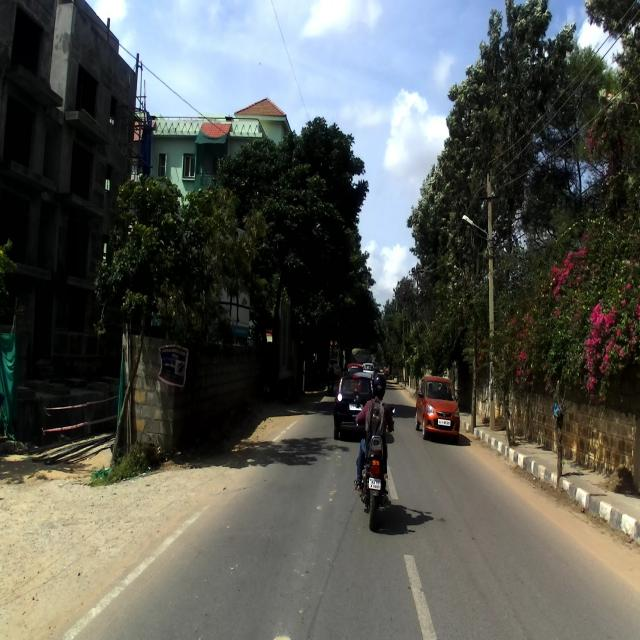car: (413, 369, 465, 441), (334, 372, 376, 440)
motorcycle: (352, 394, 395, 529)
